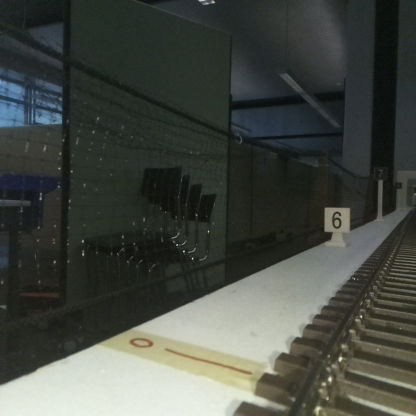black-info-7: (373, 168, 386, 219)
white-stop-6: (324, 208, 349, 246)
